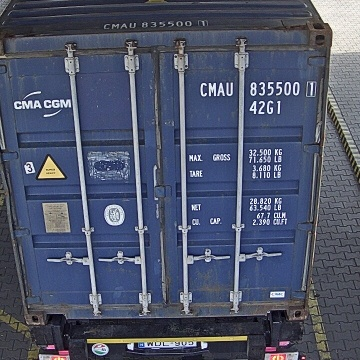serial_id: (200, 81, 316, 96)
